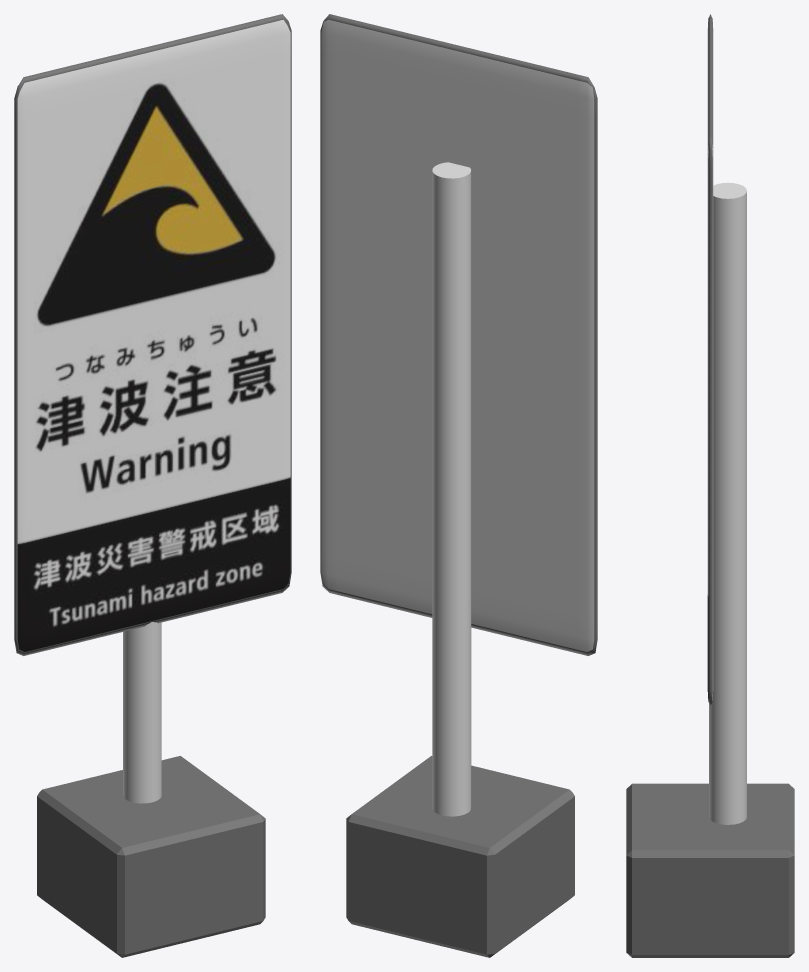
The model's file is Tsunami.fbx.
3 views of the same model, side by side, from view 1: azimuth 30°, elevation 25°; view 2: azimuth 150°, elevation 25°; view 3: azimuth 270°, elevation 25° (orthographic).
Parts seen in each view (by area): view 1: Tsunami; view 2: Tsunami; view 3: Tsunami.
Part boxes in pixels (bbox=[...]): Tsunami: bbox=[14, 14, 291, 957]; Tsunami: bbox=[320, 14, 597, 957]; Tsunami: bbox=[626, 14, 794, 957].
Size of the model in its own units: 0.4293 by 1.28 by 0.2302.
4 materials, 1 textured.
